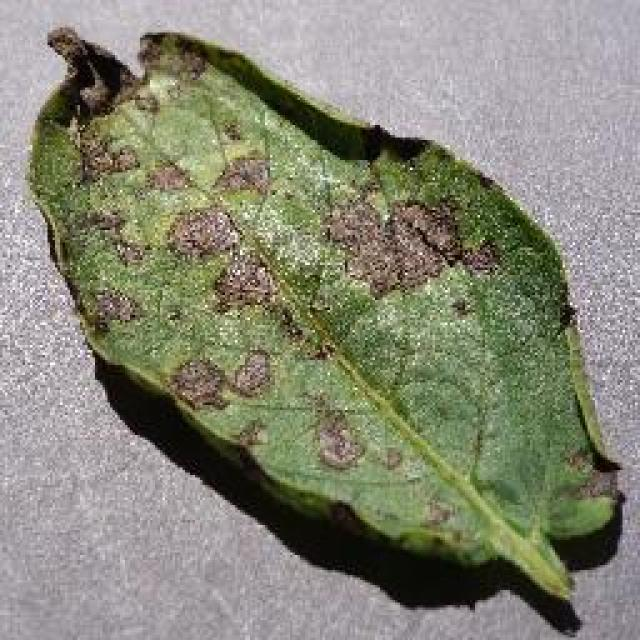early_blight: (23, 23, 625, 605)
